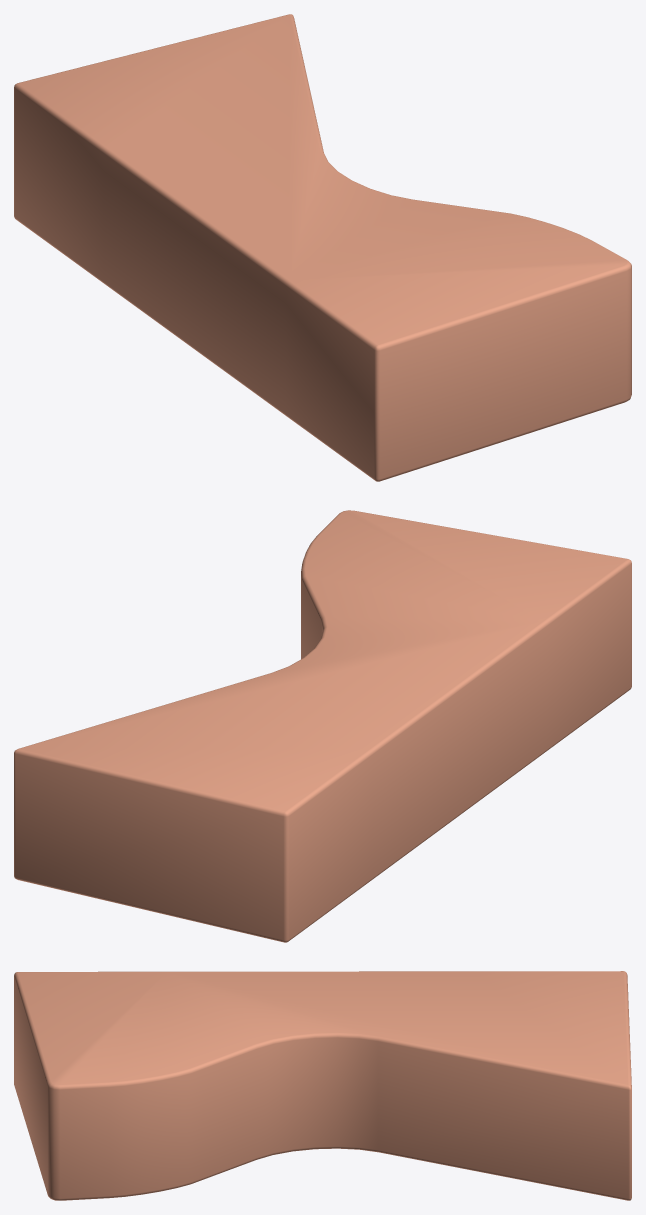
File: island_lv12_2.fbx
3 renders of one model, top to bottom at view 1: azimuth 30°, elevation 25°; view 2: azimuth 150°, elevation 25°; view 3: azimuth 270°, elevation 25°, orthographic. The views are drawn at different scales.
Visible parts, largest first — view 1: island_lv12_2; view 2: island_lv12_2; view 3: island_lv12_2.
Part boxes in pixels (bbox=[...]): island_lv12_2: bbox=[14, 14, 631, 481]; island_lv12_2: bbox=[14, 510, 631, 942]; island_lv12_2: bbox=[14, 971, 631, 1200].
Bounding box in the file's own units: 1084 × 500 × 2422.
